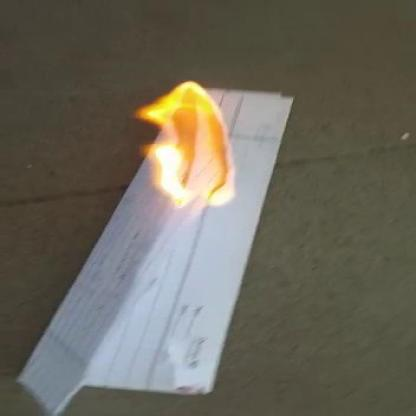Fire: (138, 78, 236, 209)
